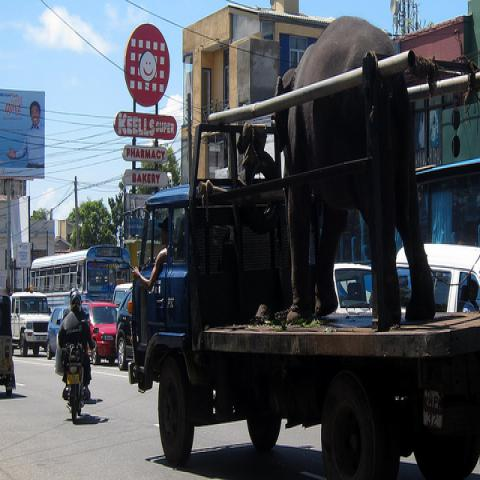bus: (30, 244, 130, 305)
car: (394, 240, 480, 315), (11, 286, 52, 357), (82, 301, 118, 365), (332, 262, 372, 315), (114, 288, 134, 372), (47, 303, 70, 361), (112, 282, 134, 305)
truck: (123, 15, 479, 478), (11, 284, 52, 358)
